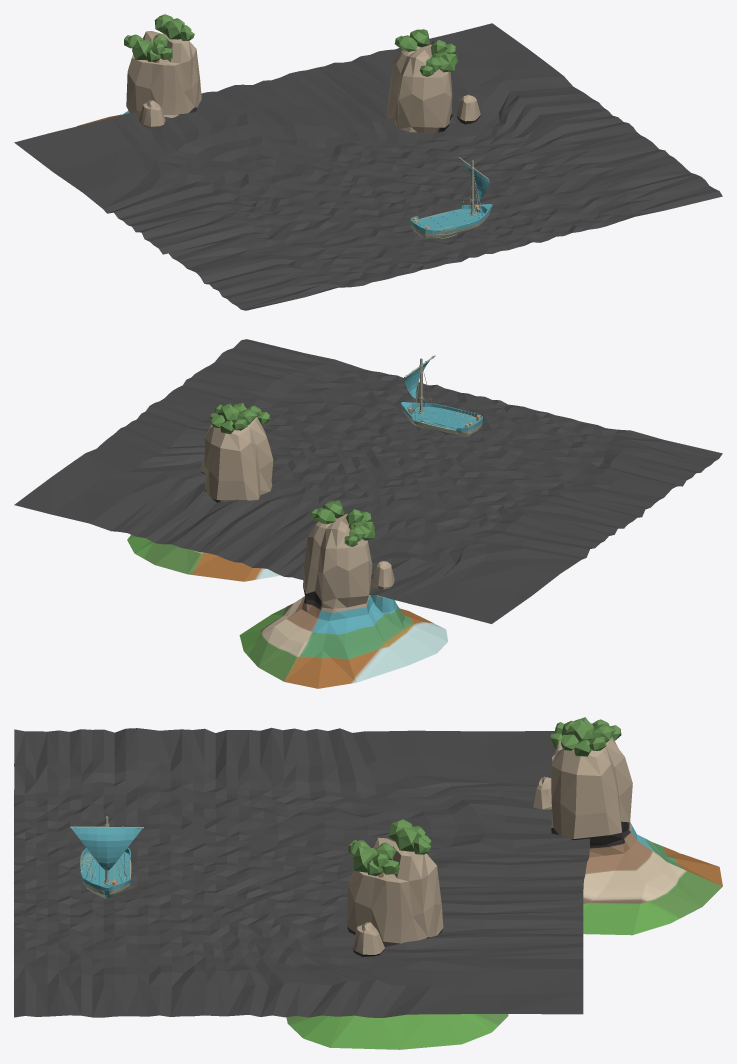
The model's file is seaDio.fbx.
3 renders of one model, top to bottom at view 1: azimuth 30°, elevation 25°; view 2: azimuth 150°, elevation 25°; view 3: azimuth 270°, elevation 25°, orthographic. The views are drawn at different scales.
Parts seen in each view (by area): view 1: seaDio_sea, seaDio_props, boatA_raft; view 2: seaDio_sea, seaDio_props, boatA_raft; view 3: seaDio_sea, seaDio_props, boatA_raft.
Boxes of the visible parts, x1=… form: seaDio_sea: x1=14, y1=23, x2=722, y2=310; seaDio_props: x1=77, y1=14, x2=480, y2=133; boatA_raft: x1=410, y1=157, x2=492, y2=239; seaDio_sea: x1=14, y1=339, x2=722, y2=623; seaDio_props: x1=127, y1=403, x2=447, y2=688; boatA_raft: x1=401, y1=355, x2=482, y2=437; seaDio_sea: x1=14, y1=727, x2=589, y2=1017; seaDio_props: x1=286, y1=717, x2=722, y2=1049; boatA_raft: x1=70, y1=816, x2=143, y2=898.
Bounding box in the file's own units: 119 × 32.98 × 124.
